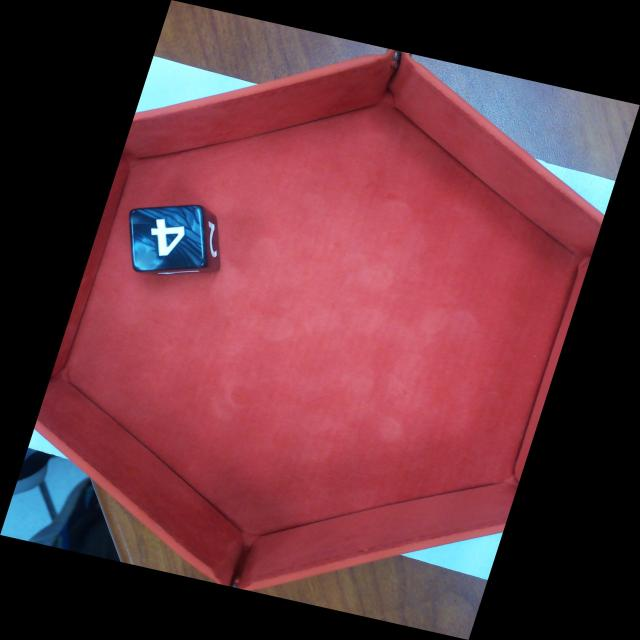dice: (131, 203, 203, 270)
